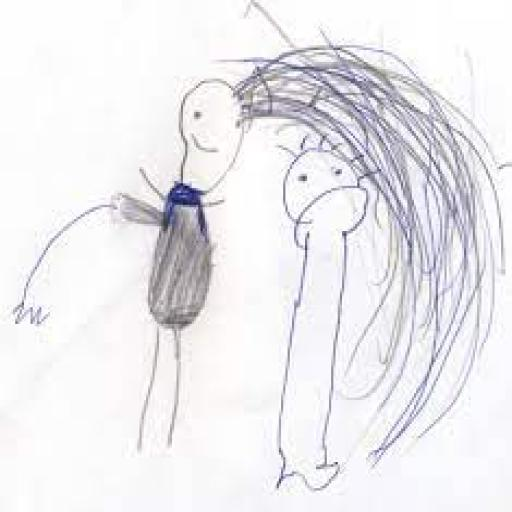person: (106, 66, 246, 464), (275, 134, 373, 497)
